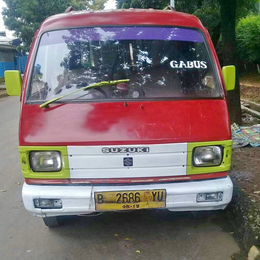plate: (92, 192, 166, 211)
